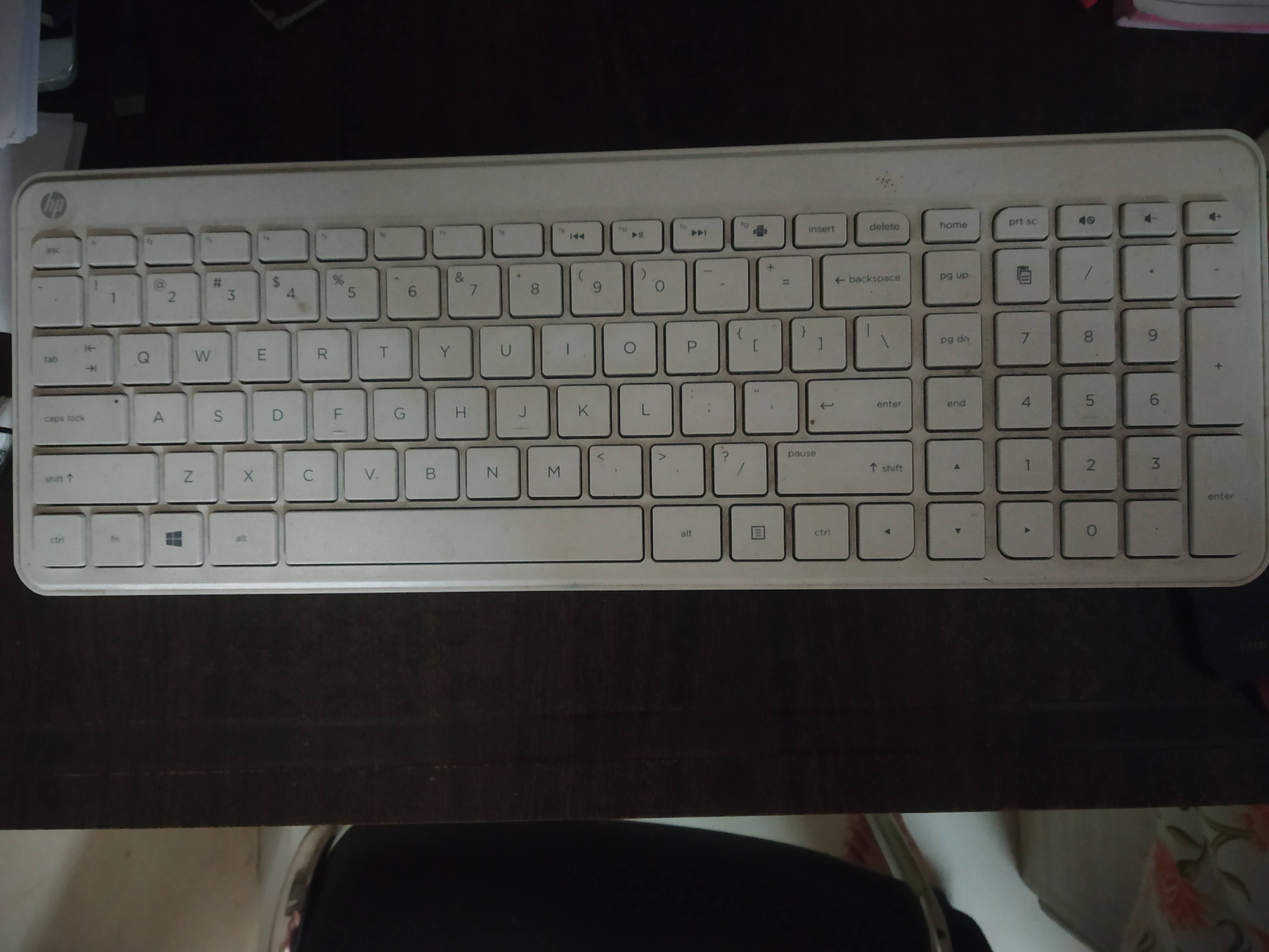Electronics: (3, 97, 1269, 620)
